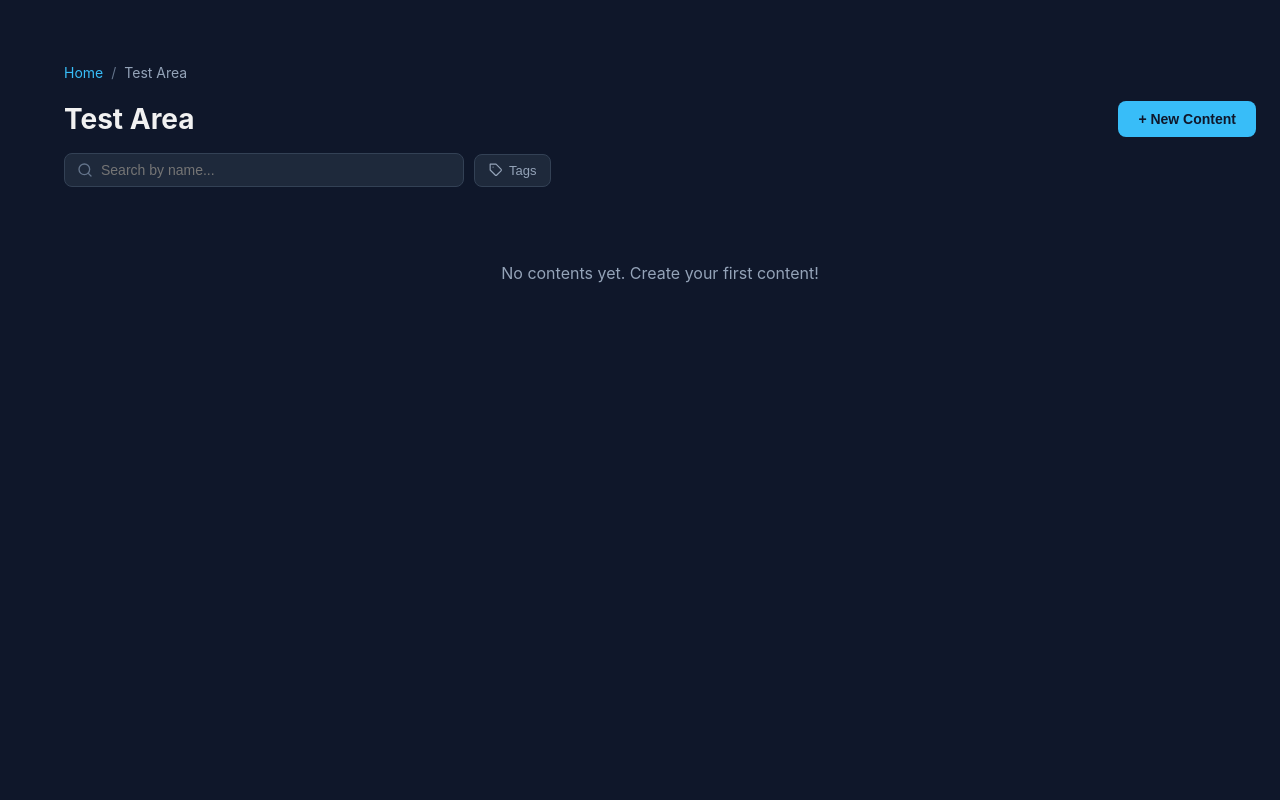
Test: AreaPage › Create Content Modal › should open modal when clicking create button
Click the button "+ New Content".
click(1187, 119)  # box [1118,101,1256,137]
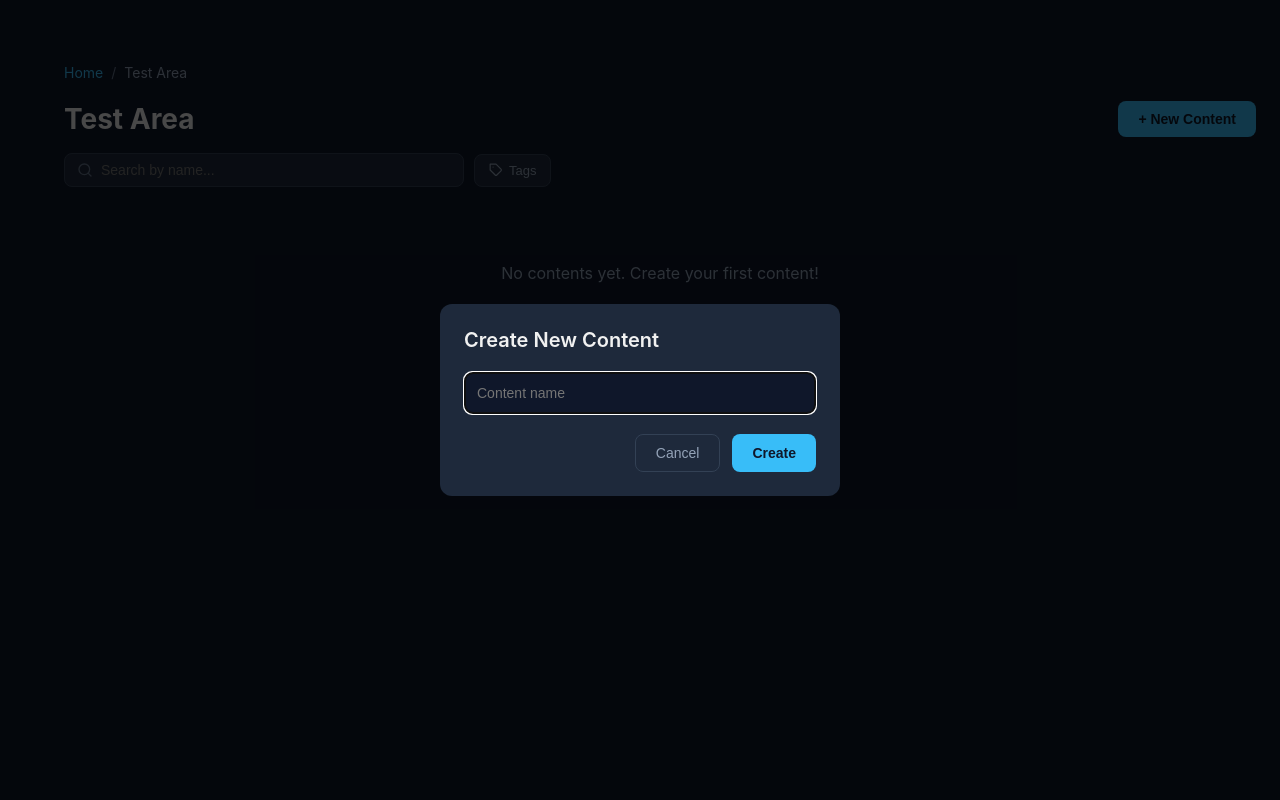
Expected: the heading "Create New Content" is shown, [464,328,659,352]
